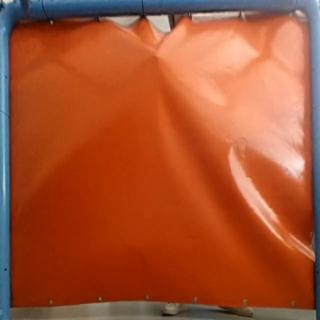Hit-hRxx: (148, 49, 166, 62)
